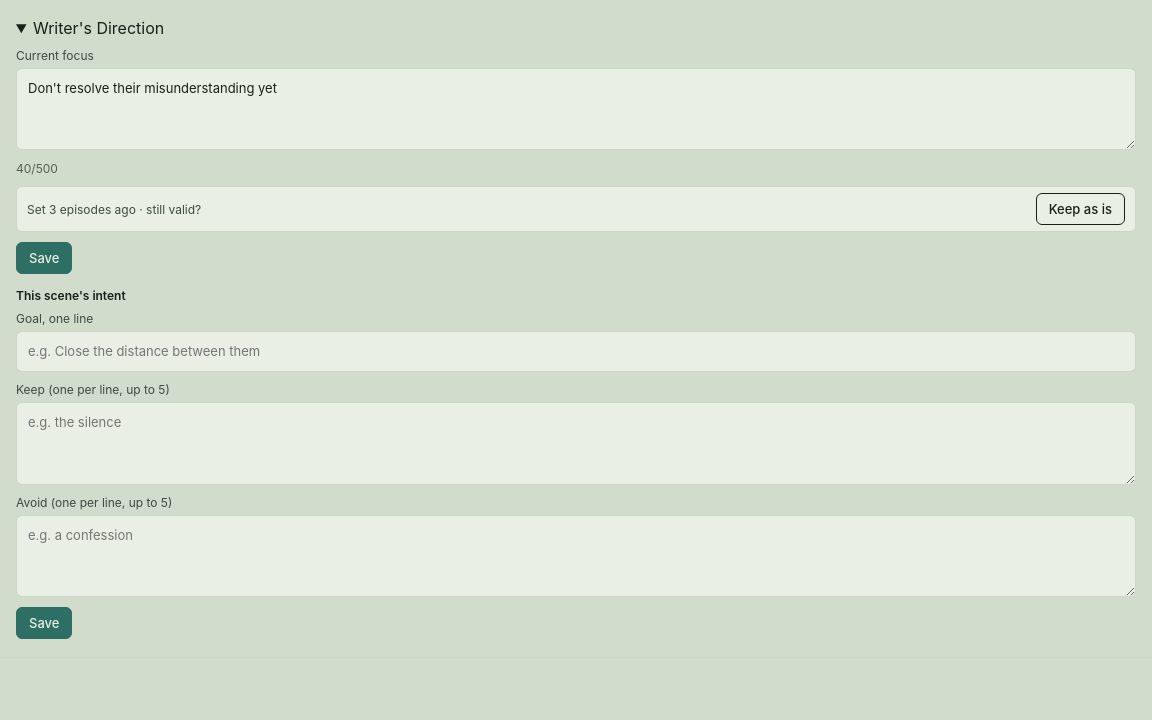
Test case: DirectionSection › shows the stale badge and clears it with Keep as is
Expected: the text "Set 3 episodes ago · still valid?" is shown, [27, 202, 201, 217]
Click the button "Keep as is": (1080, 209) [1036, 193, 1125, 225]
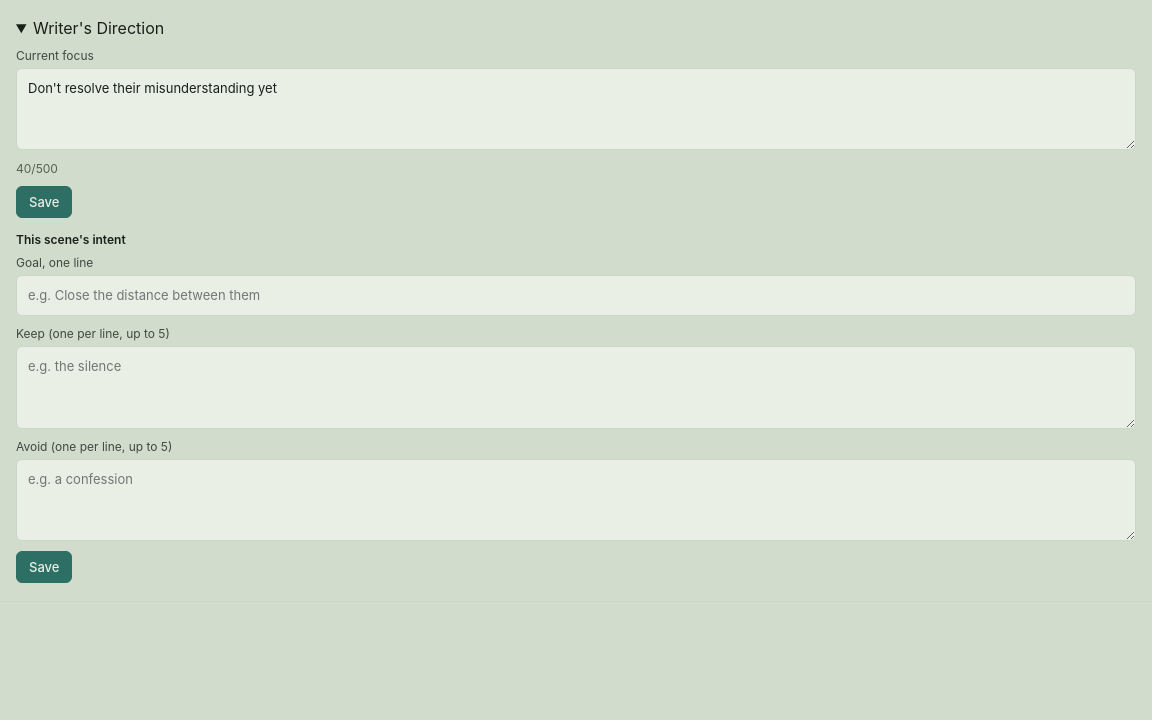
Expected: the text "Set 3 episodes ago" is gone
